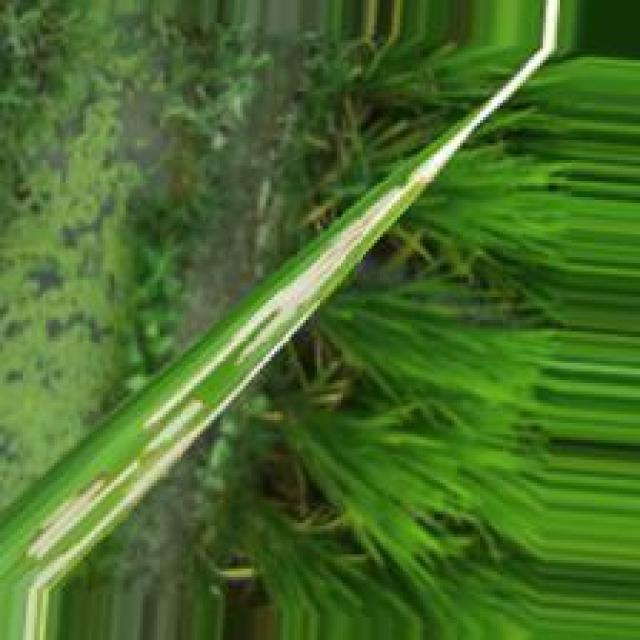Rice_Hispa: (236, 0, 562, 379)
